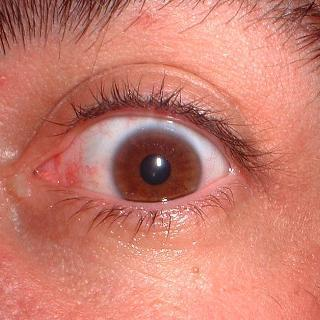pupil: (139, 154, 171, 186)
